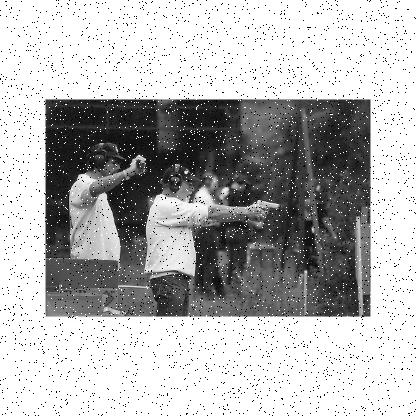gun: (249, 199, 281, 225)
